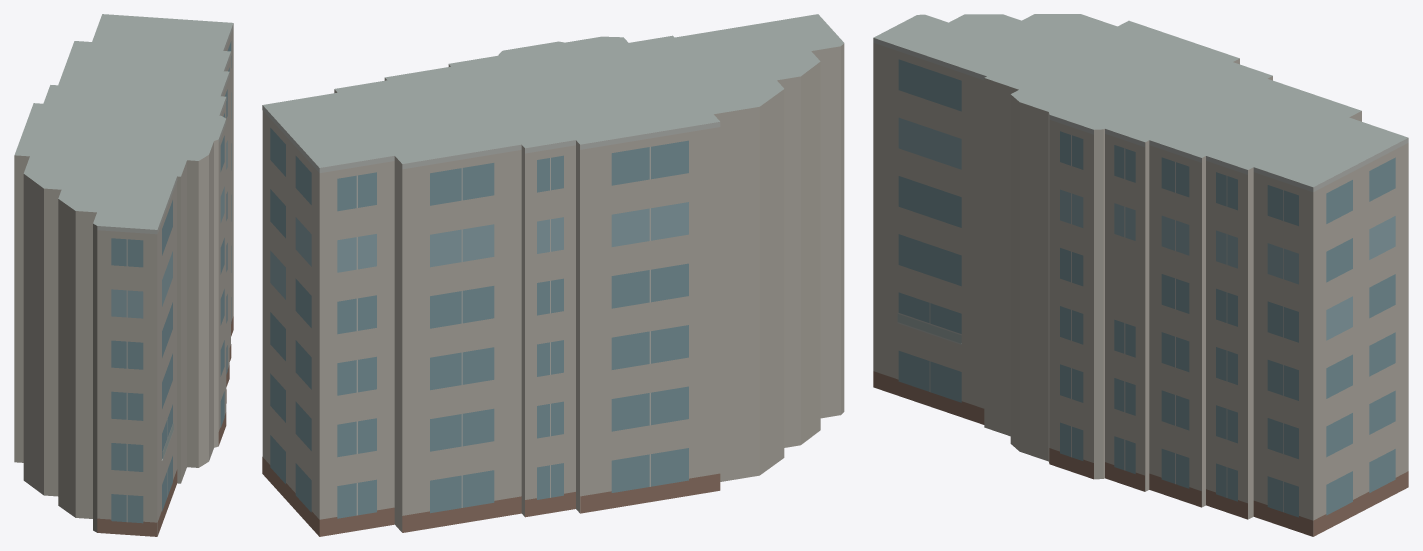
Rendered from survey-upis-33047578.glb.
3 renders of one model, left to right at view 1: azimuth 30°, elevation 25°; view 2: azimuth 150°, elevation 25°; view 3: azimuth 270°, elevation 25°, orthographic. The views are drawn at different scales.
Parts seen in each view (by area): view 1: survey-upis-33047578.tmp; view 2: survey-upis-33047578.tmp; view 3: survey-upis-33047578.tmp.
Boxes of the visible parts, x1,y1,x2,y2 form: survey-upis-33047578.tmp: (14,14,233,536); survey-upis-33047578.tmp: (262,14,844,536); survey-upis-33047578.tmp: (873,14,1408,536).
Size of the model in its own units: 18.3 by 17.2 by 23.88.
